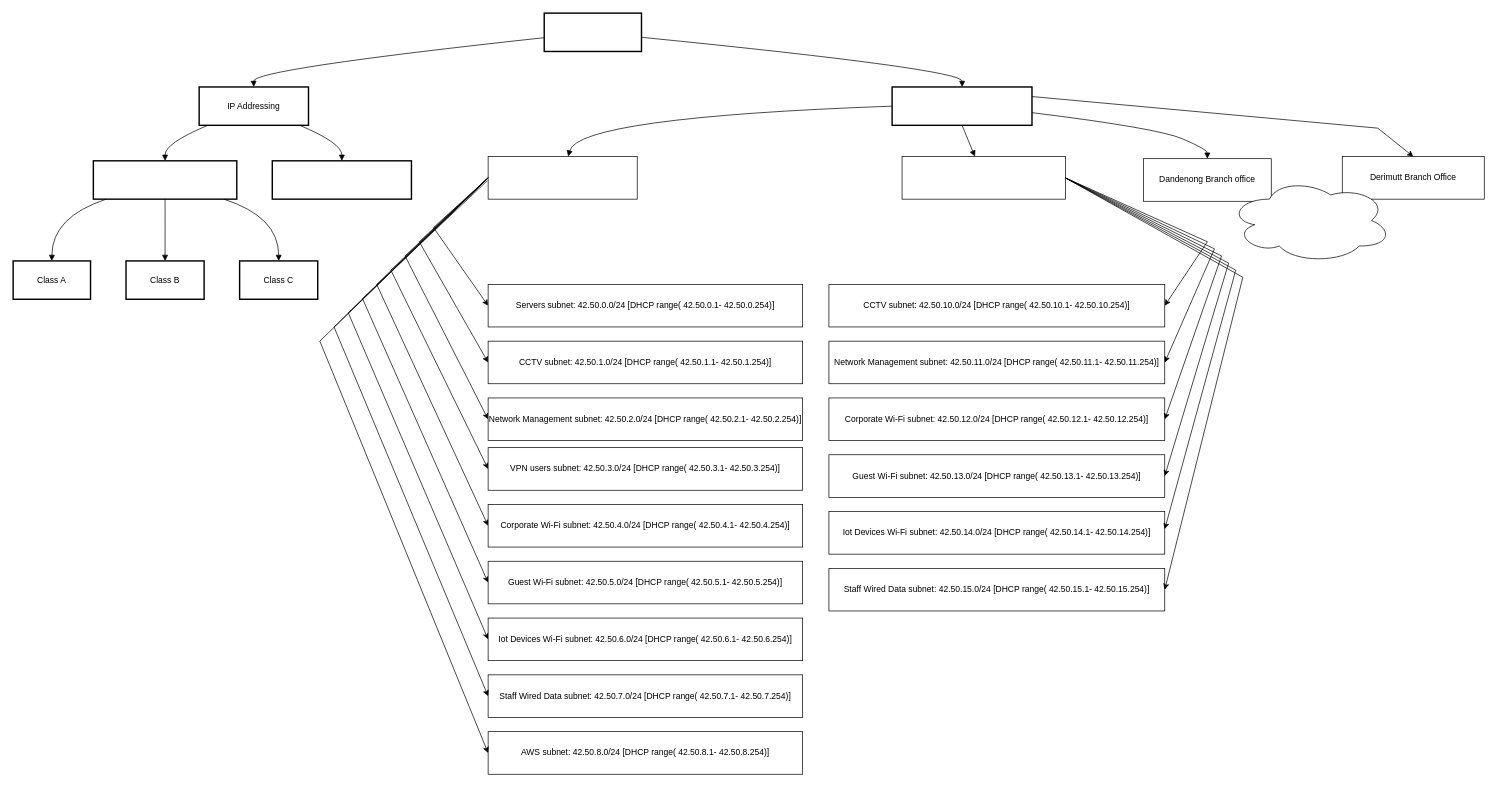
Image size: 1497x787. Some labels were removed from this diagram. The box of each missing label's shape, as (x1, y1, x2, y2) in pixels:
Assigning IP Ranges Range: 42.50.0.0/16: (891, 86, 1032, 126)
Branches IP subnetting network only highlighting one branch subnet information: (1228, 177, 1392, 263)
Essendon Fields Branch office: (901, 156, 1065, 199)
Melbourne CBD Headquaters: (487, 156, 637, 199)
Private IP Addresses: (92, 160, 237, 200)
Public IP Addresses: (271, 160, 412, 200)
Subnetting: (543, 12, 642, 52)
